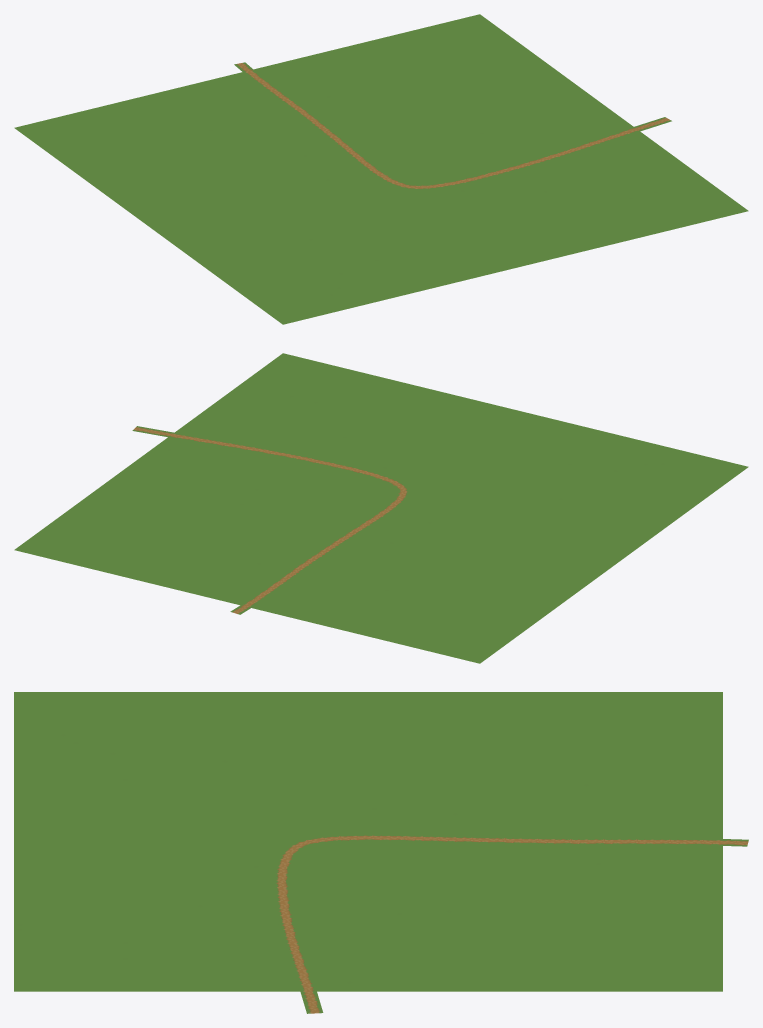
File: path_intro1b.fbx
3 views of the same model, one above another, from view 1: azimuth 30°, elevation 25°; view 2: azimuth 150°, elevation 25°; view 3: azimuth 270°, elevation 25° (orthographic). The views are drawn at different scales.
Visible parts, largest first — view 1: groundPlaneBase, pathBase_lvl1.001; view 2: groundPlaneBase, pathBase_lvl1.001; view 3: groundPlaneBase, pathBase_lvl1.001.
Boxes of the visible parts, x1,y1,x2,y2 form: groundPlaneBase: [14, 14, 748, 324]; pathBase_lvl1.001: [234, 62, 671, 189]; groundPlaneBase: [14, 353, 748, 663]; pathBase_lvl1.001: [132, 426, 409, 614]; groundPlaneBase: [14, 692, 722, 991]; pathBase_lvl1.001: [273, 834, 748, 1013].
Size of the model in its own units: 2771 by 0.4593 by 2675.
